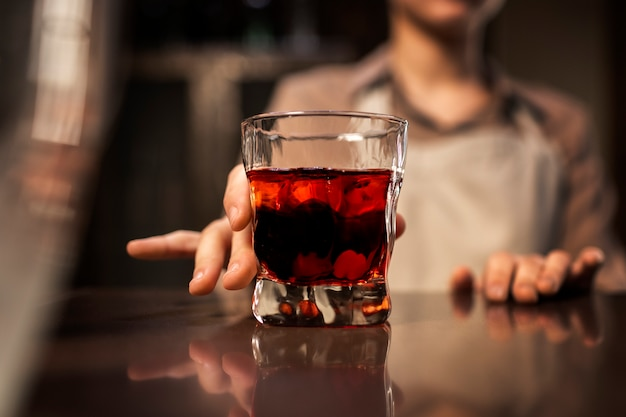alcohol: (235, 109, 405, 329)
